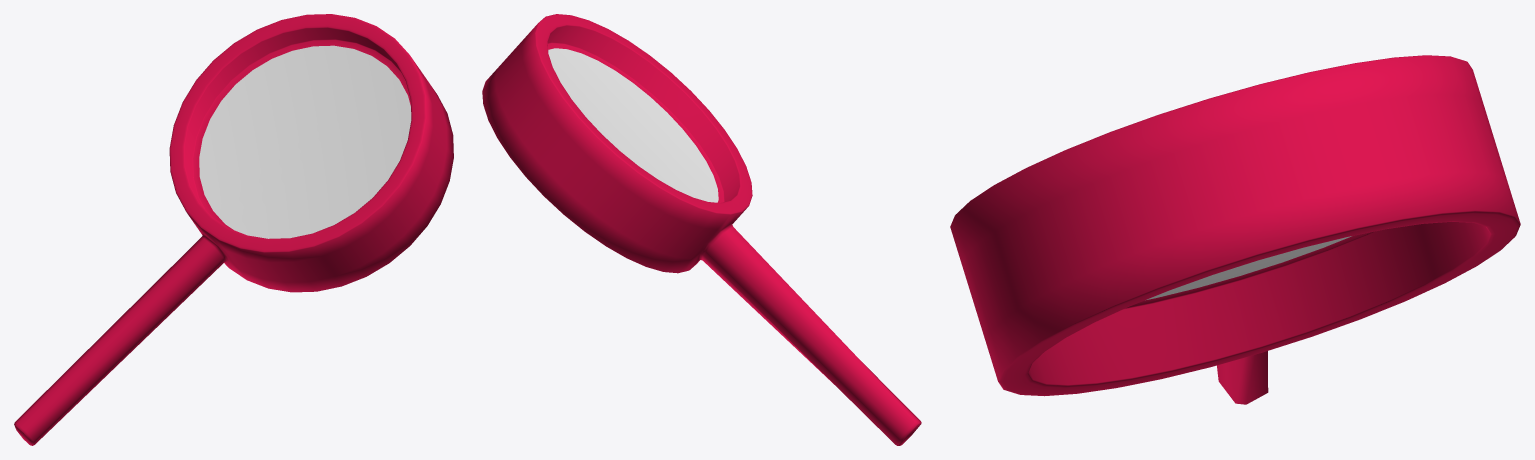
Rendered from Lupa.fbx.
The picture shows the model from 3 angles, left to right: view 1: azimuth 30°, elevation 25°; view 2: azimuth 150°, elevation 25°; view 3: azimuth 270°, elevation 25°; orthographic projection. The views are drawn at different scales.
Visible parts, largest first — view 1: Cylinder; view 2: Cylinder; view 3: Cylinder.
Part boxes in pixels (x1,y1,x2,y2): Cylinder: (14, 14, 453, 445); Cylinder: (482, 14, 921, 445); Cylinder: (950, 55, 1520, 404).
Bounding box in the file's own units: 0.0768 × 0.0458 × 0.0589.
